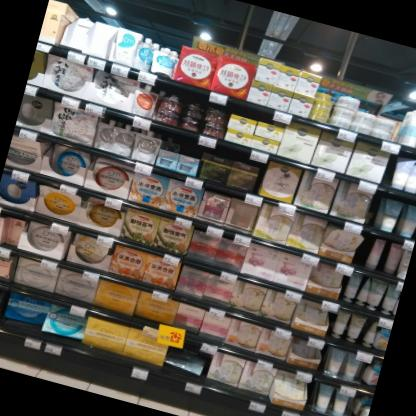empty_space: (0, 312, 38, 338)
